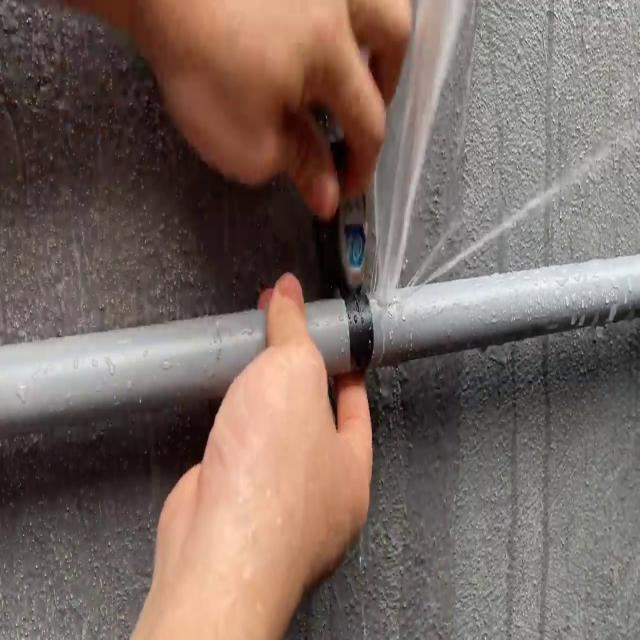leak: (373, 0, 481, 314)
